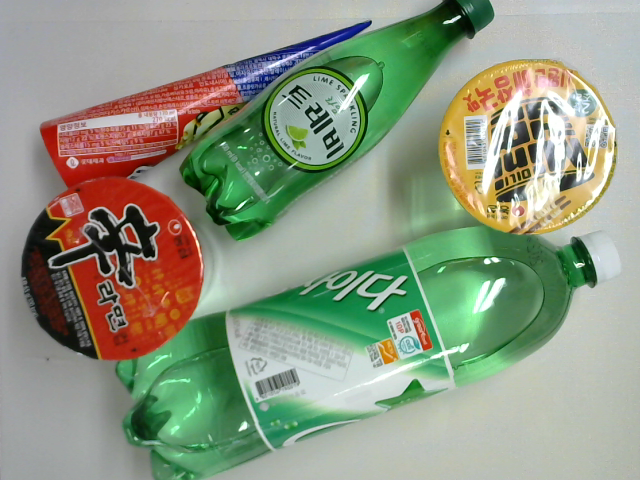Chilseong_Cider_1.5L: (114, 225, 622, 480)
Hejangmini: (438, 59, 616, 235)
Sinramen_small: (18, 176, 203, 363)
Treviraim_500ml: (180, 1, 499, 245)
World_Cone_Banila: (39, 21, 376, 195)
